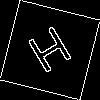H: (25, 25, 80, 83)
